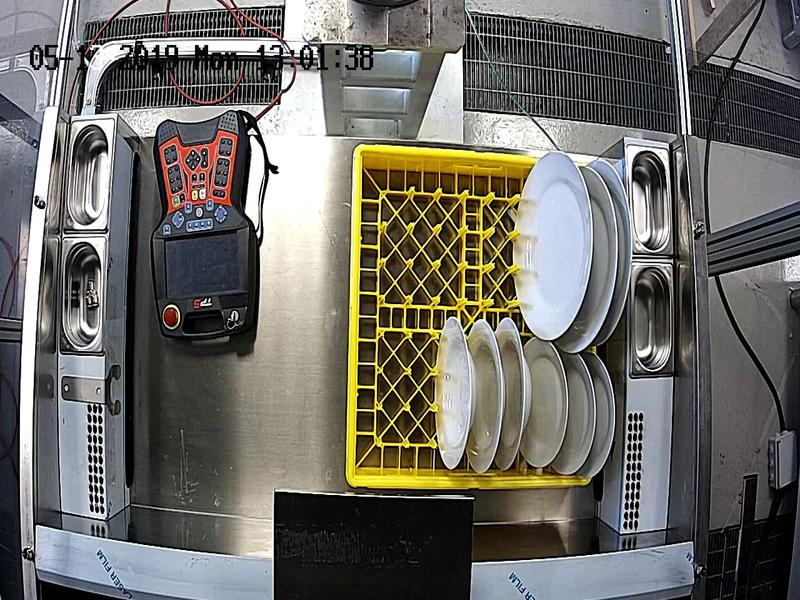Dish: (513, 153, 594, 340), (436, 315, 474, 467), (590, 170, 618, 353), (531, 337, 568, 467), (506, 312, 531, 480), (477, 320, 504, 470), (615, 157, 633, 356), (569, 354, 595, 478), (598, 356, 616, 488)
